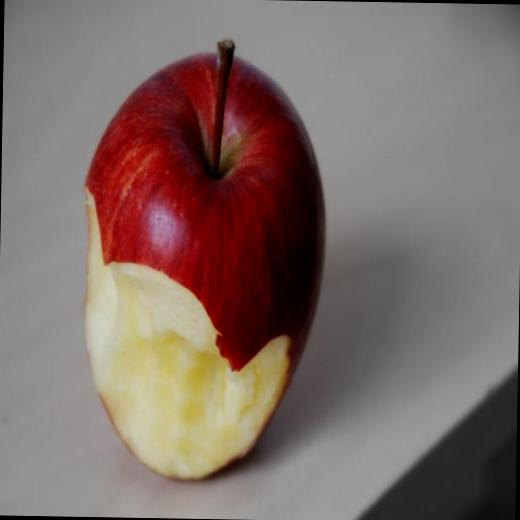Apple: (77, 32, 333, 484)
